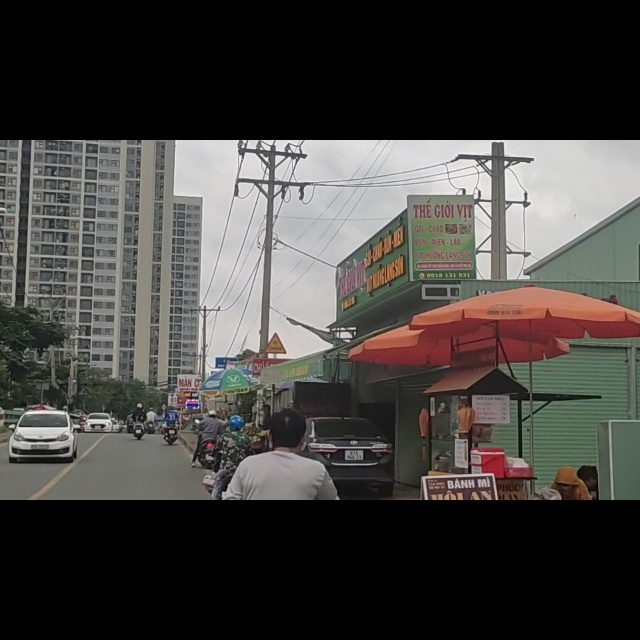bien_nguy_hiem: (264, 340, 286, 383)
